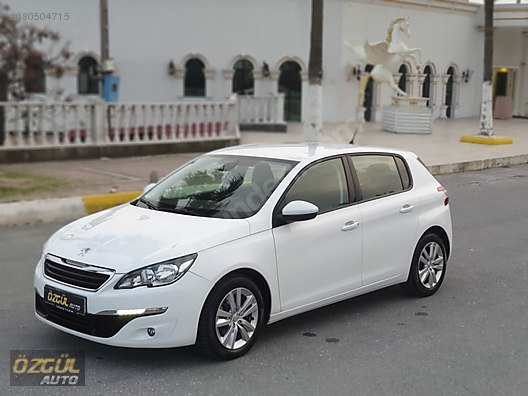peugeot: (24, 138, 454, 363)
